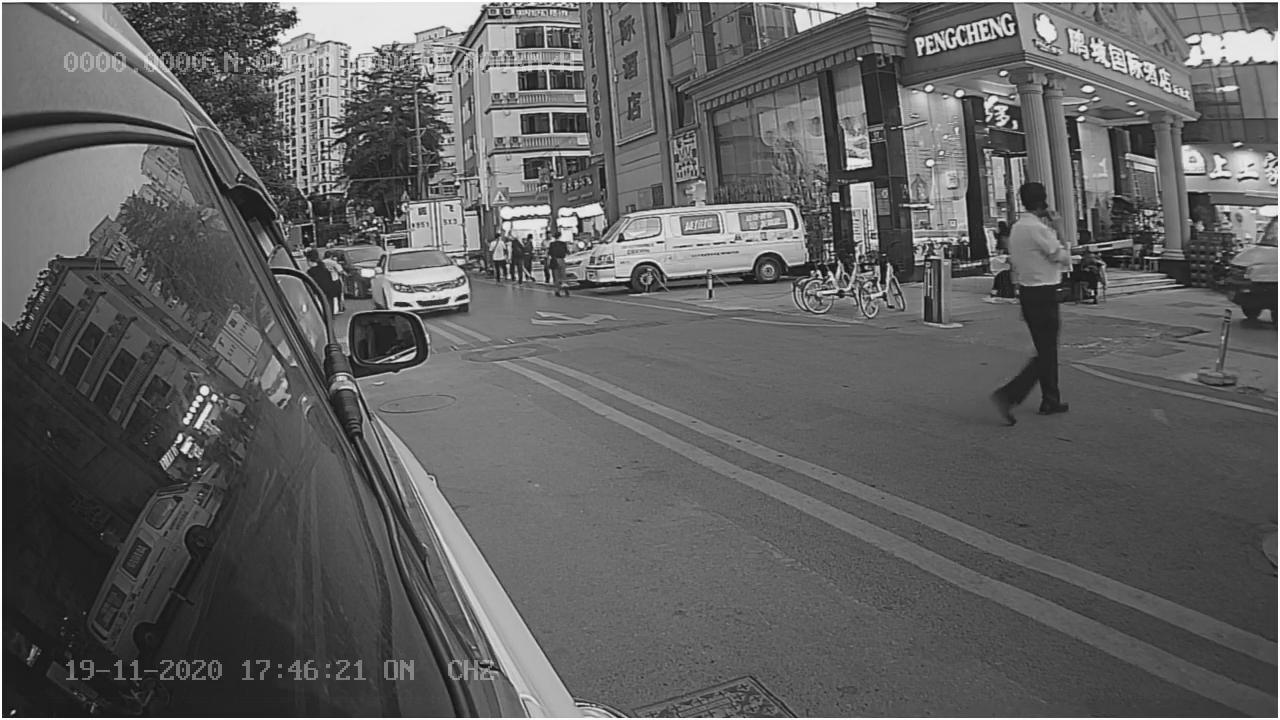person: (986, 179, 1080, 428)
